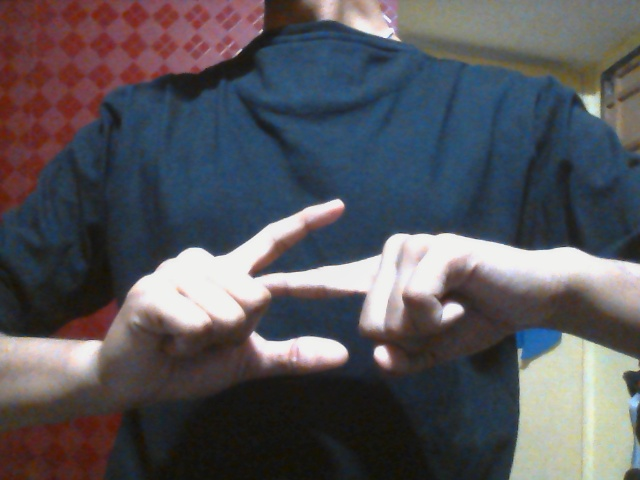E: (132, 197, 487, 407)
